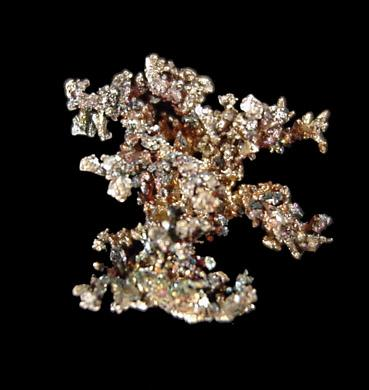silver: (65, 54, 333, 324)
